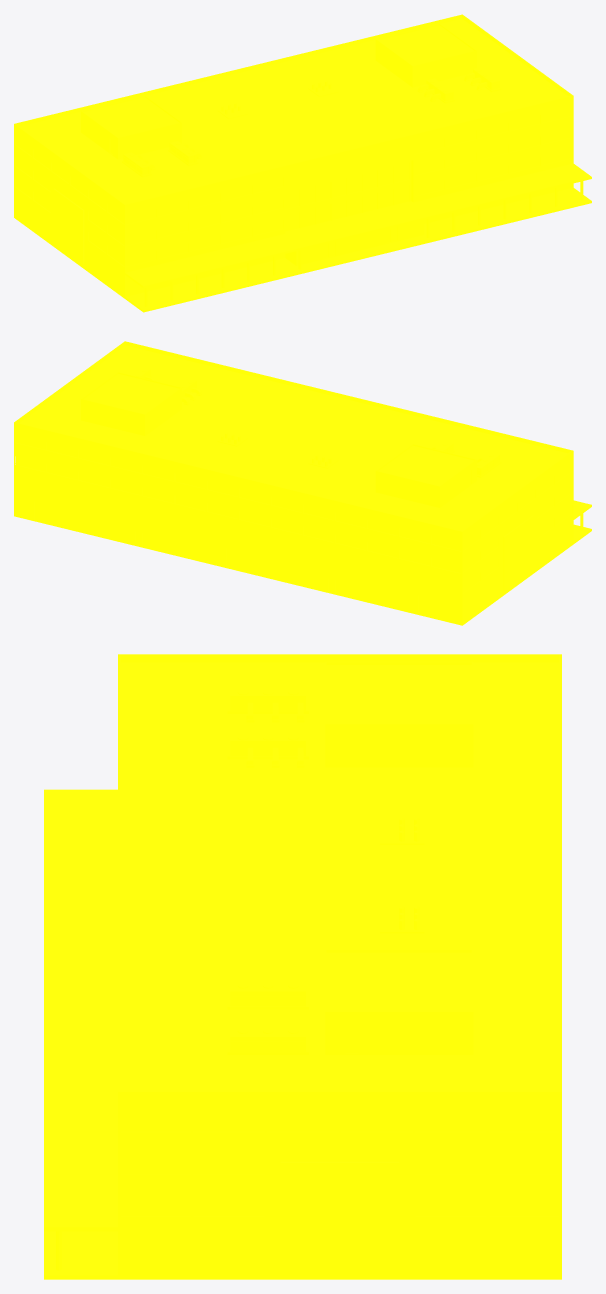
The model's file is airport-terminal.glb.
3 views of the same model, one above another, from view 1: azimuth 30°, elevation 25°; view 2: azimuth 150°, elevation 25°; view 3: azimuth 270°, elevation 25° (orthographic). The views are drawn at different scales.
Visible parts, largest first — view 1: airport-terminal; view 2: airport-terminal; view 3: airport-terminal.
Boxes of the visible parts, <box> form: airport-terminal: <box>14,14,591,312</box>; airport-terminal: <box>14,341,591,625</box>; airport-terminal: <box>44,654,561,1279</box>.
Size of the model in its own units: 70.4 by 16.7 by 35.
1 material, 1 textured.
